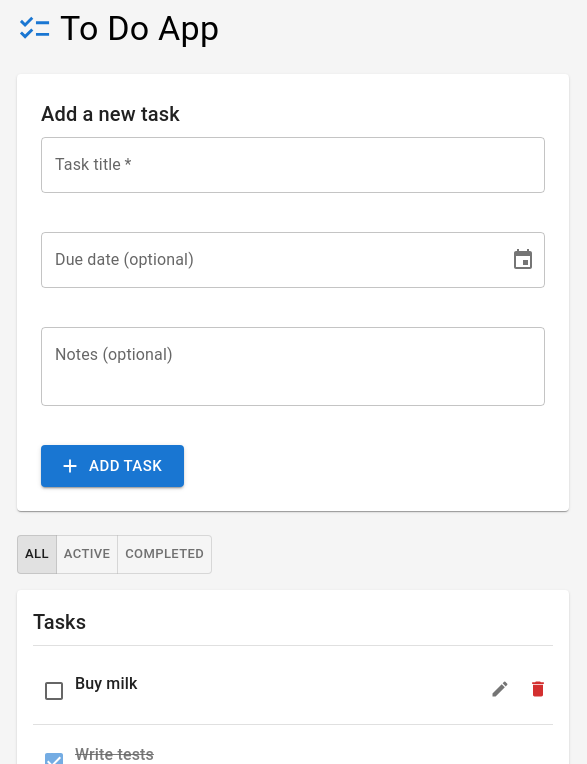
Scenario: App › shows validation error when submitting empty title
This screenshot has width=587, height=764.
Click the button "Add task". click: x=112, y=466
box: [41,445,184,487]
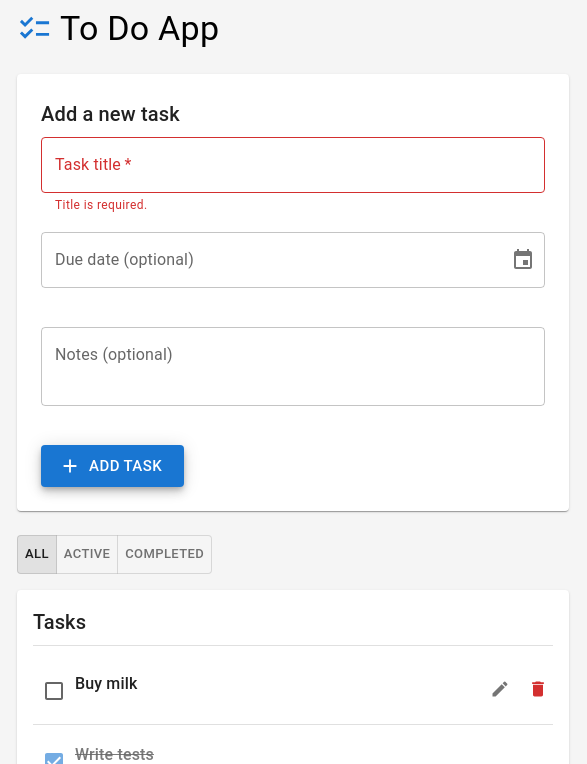
Expected: the text "Title is required." is shown, [55,198,148,212]
